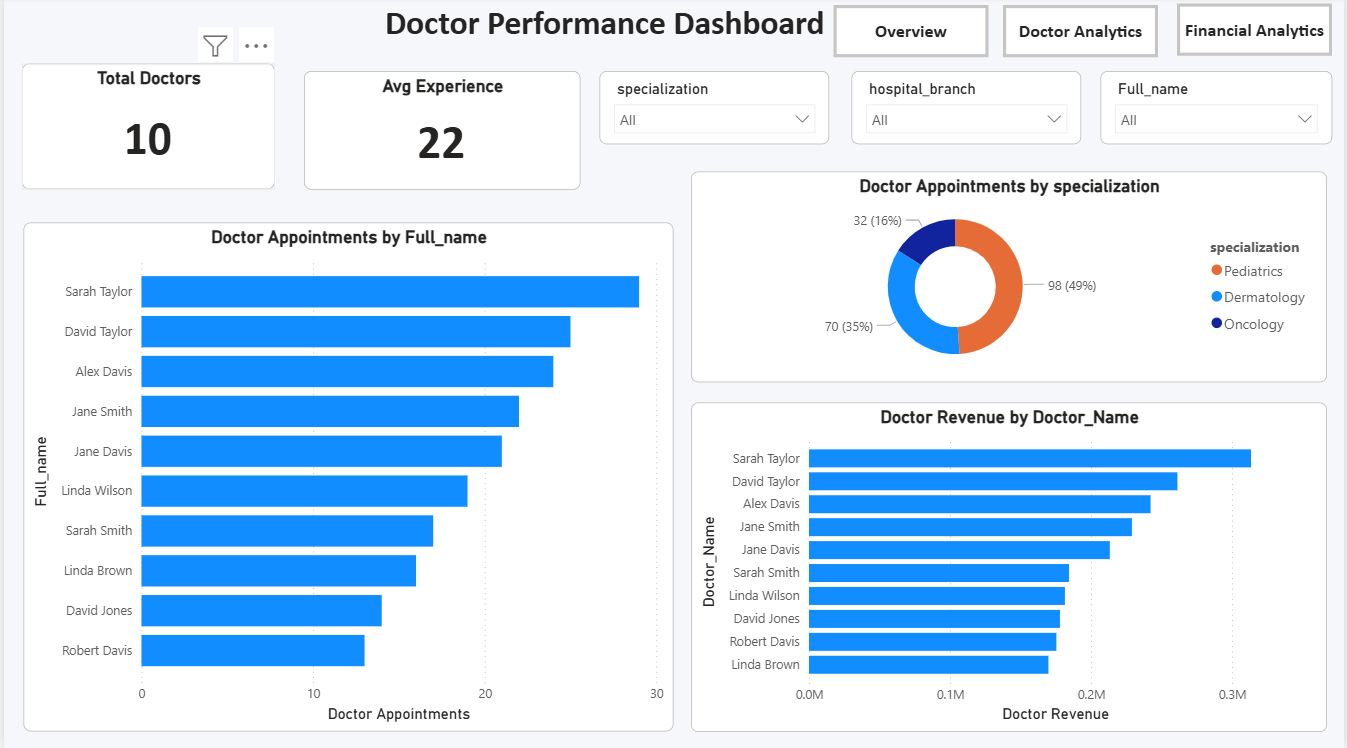

The dashboard page shown, as its layout file describes it:
{"tool":"powerbi","page":{"name":"Doctor_Analytics_Dashboard","canvas":[1280,720],"ordinal":1},"visuals":[{"type":"textbox","box":[259.6,0,529.1,54.9],"z":0},{"type":"clusteredBarChart","fields":{"Category":["tblDoctors.Full_name"],"Y":["tblAppointments.Doctor Appointments"]},"box":[18.3,216.3,620.6,485.8],"z":1},{"type":"clusteredBarChart","fields":{"Category":["tblAppointments.Doctor_Name"],"Y":["tblAppointments.Doctor Revenue"]},"box":[655.5,387.7,607.3,314.5],"z":2},{"type":"donutChart","fields":{"Category":["tblDoctors.specialization"],"Y":["tblAppointments.Doctor Appointments"]},"box":[655.5,168,607.3,201.3],"z":3},{"type":"cardVisual","title":"Total Doctors","fields":{"Data":["tblDoctors.Total Doctors"]},"box":[17.3,64.7,241.3,119.8],"z":4},{"type":"cardVisual","title":"Avg Experience","fields":{"Data":["tblDoctors.Average Experience"]},"box":[286.1,71.1,263.9,113.3],"z":5},{"type":"slicer","fields":{"Values":["tblDoctors.specialization"]},"box":[569,71.5,219.6,69.9],"z":6},{"type":"slicer","fields":{"Values":["tblDoctors.hospital_branch"]},"box":[808.6,71.5,219.6,69.9],"z":7},{"type":"slicer","fields":{"Values":["tblDoctors.Full_name"]},"box":[1046.5,71.5,221.3,69.9],"z":8},{"type":"actionButton","title":"Overview","box":[792,8.1,148.1,49.9],"z":9},{"type":"actionButton","title":"Overview","box":[953.4,8.1,148.1,49.9],"z":10},{"type":"actionButton","title":"Overview","box":[1119.7,6.5,148.1,49.9],"z":11}]}

Visuals, with their boxes in screenshot pixels (x1, y1, x2, y2), scaled from the page's 1280x720 canvas onto the 1347x748 screenshot:
textbox: select_region(273, 0, 830, 57)
clusteredBarChart - tblDoctors.Full_name x tblAppointments.Doctor Appointments: select_region(19, 225, 672, 729)
clusteredBarChart - tblAppointments.Doctor_Name x tblAppointments.Doctor Revenue: select_region(690, 403, 1329, 730)
donutChart - tblDoctors.specialization x tblAppointments.Doctor Appointments: select_region(690, 175, 1329, 384)
"Total Doctors" cardVisual: select_region(18, 67, 272, 192)
"Avg Experience" cardVisual: select_region(301, 74, 579, 192)
slicer - tblDoctors.specialization: select_region(599, 74, 830, 147)
slicer - tblDoctors.hospital_branch: select_region(851, 74, 1082, 147)
slicer - tblDoctors.Full_name: select_region(1101, 74, 1334, 147)
"Overview" actionButton: select_region(833, 8, 989, 60)
"Overview" actionButton: select_region(1003, 8, 1159, 60)
"Overview" actionButton: select_region(1178, 7, 1334, 59)
